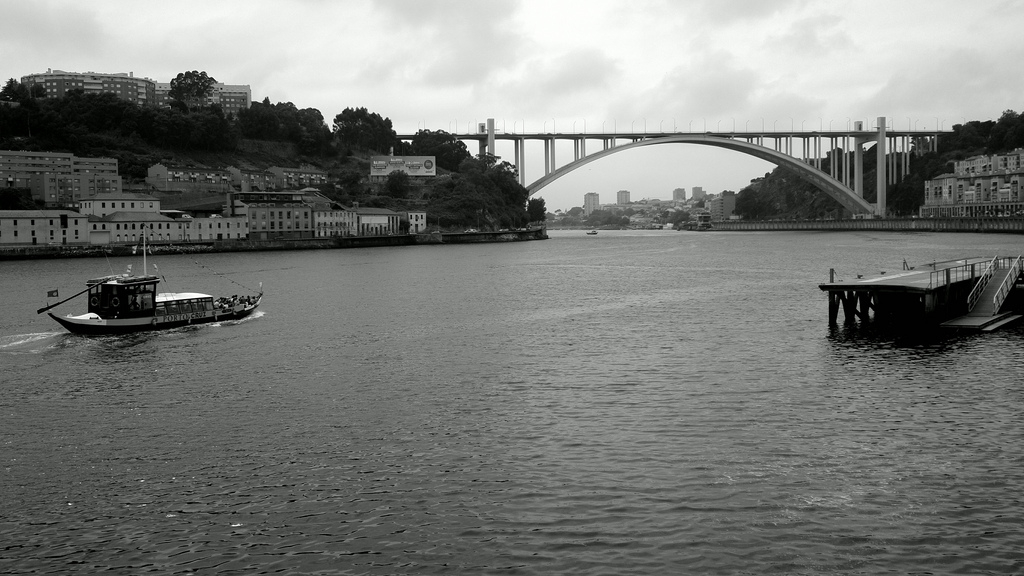arrabida: (444, 116, 952, 220)
